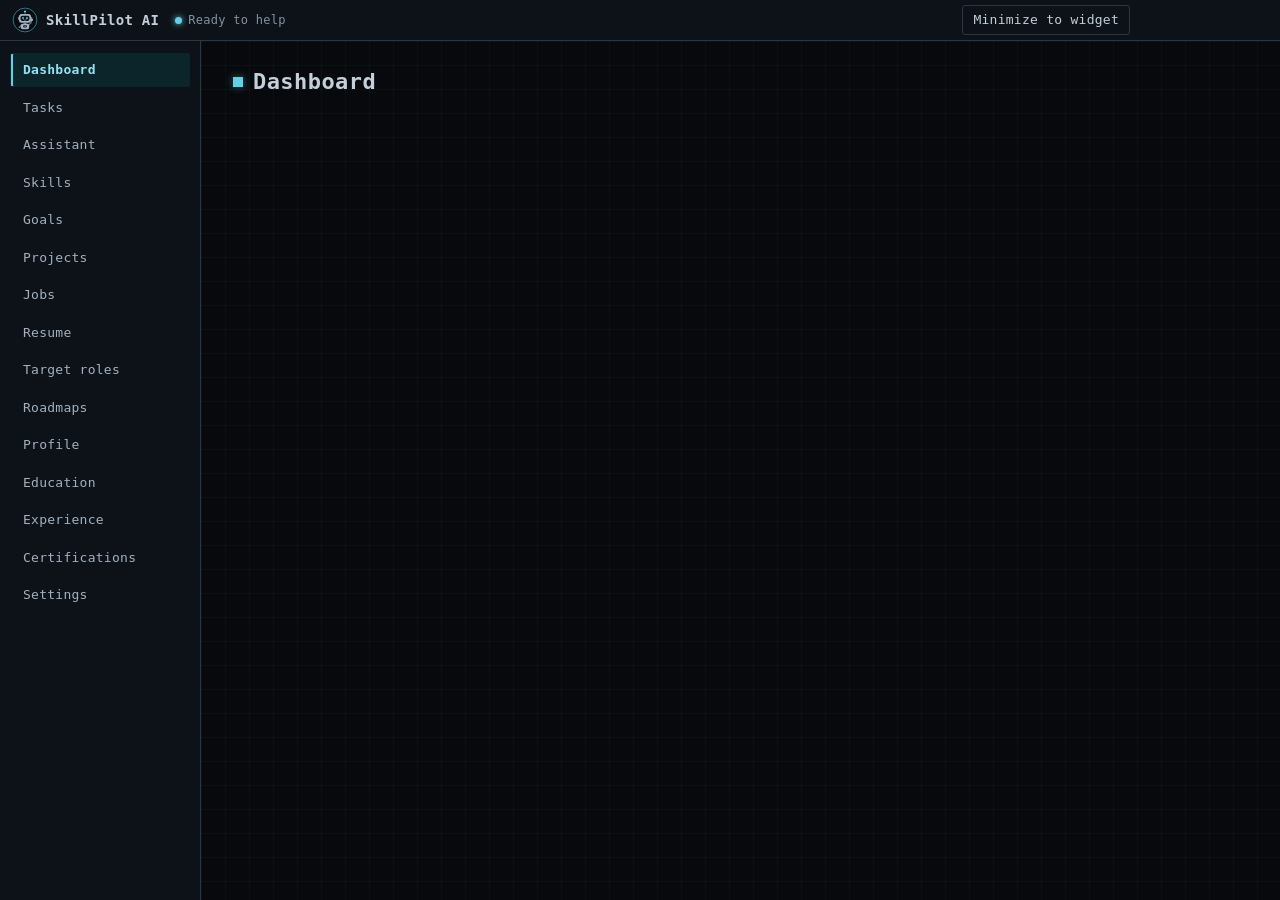
Test: App › switches to Profile
The width and height of the screenshot is (1280, 900).
Check: the heading "Dashboard" is shown, box x1=253 y1=69 x2=376 y2=94
Click the button "Profile".
click(100, 445)  # box x1=10 y1=428 x2=190 y2=462
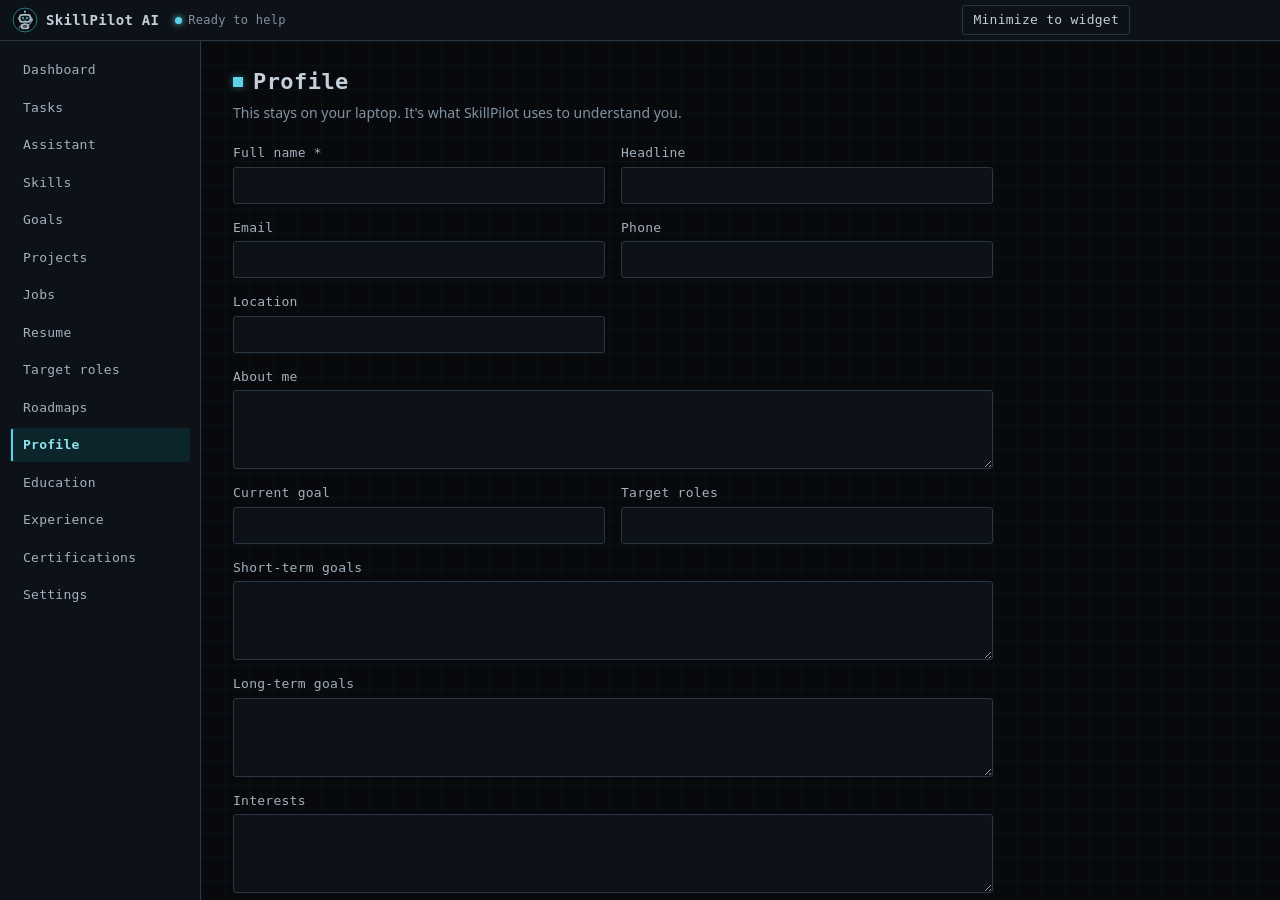
Check: the heading "Profile" is shown, box x1=253 y1=69 x2=349 y2=94
